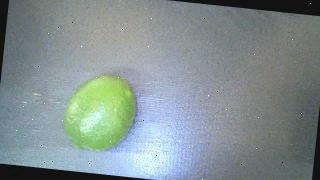EXPORTACION: (61, 71, 139, 154)
